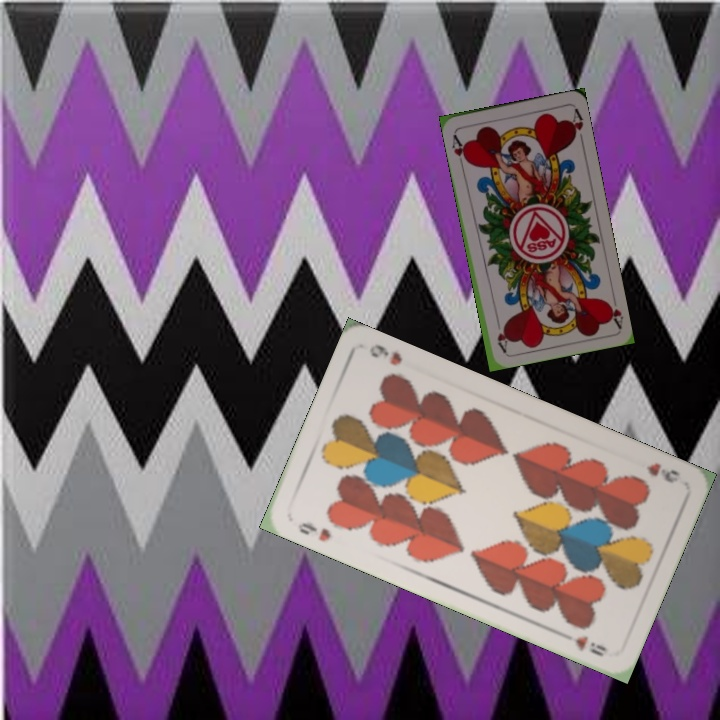H9: (642, 458, 683, 486), (294, 518, 334, 544)
HA: (602, 289, 626, 330), (448, 128, 471, 169)
